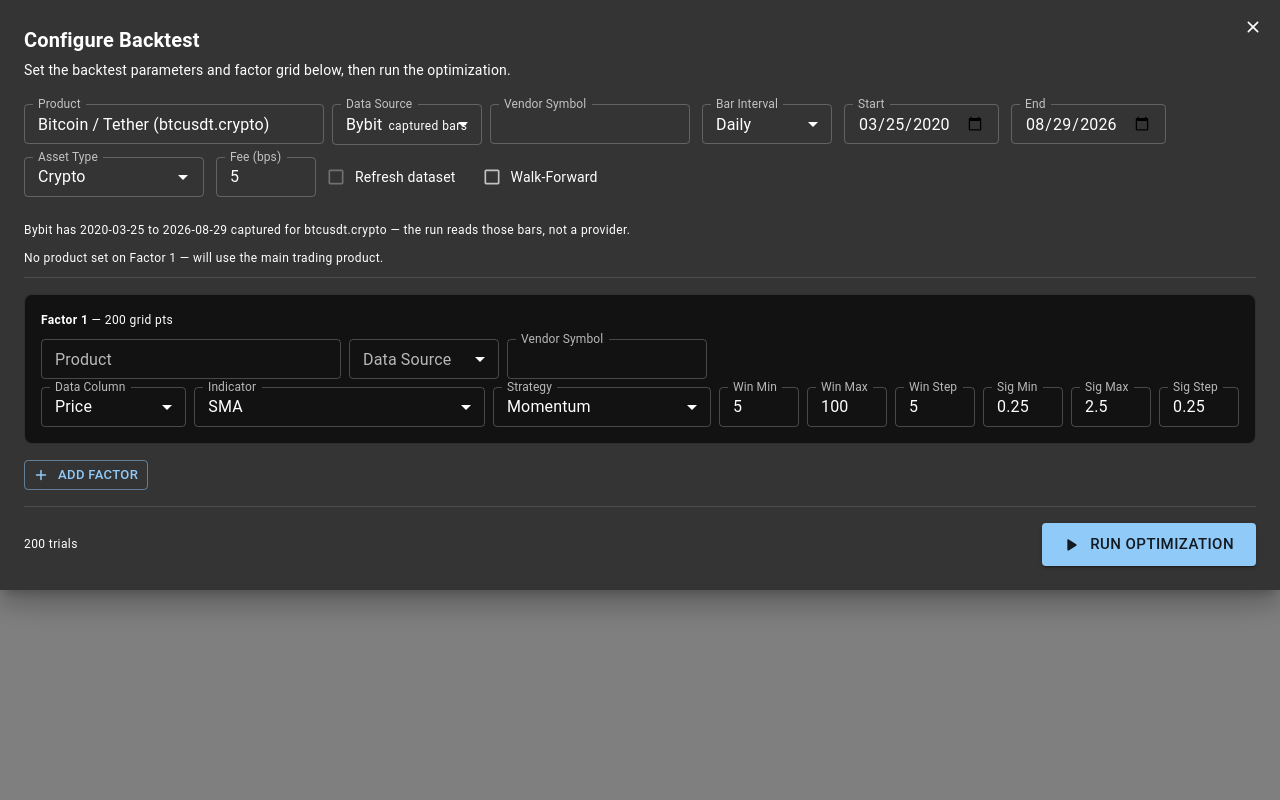
ConfigDrawer — a range outside the capture is flagged, not silently run › warns when a hand-typed start reaches behind the first bar
In the date field labelled "Start": (922, 124) x1=844 y1=104 x2=999 y2=144, type "2016-01-01"
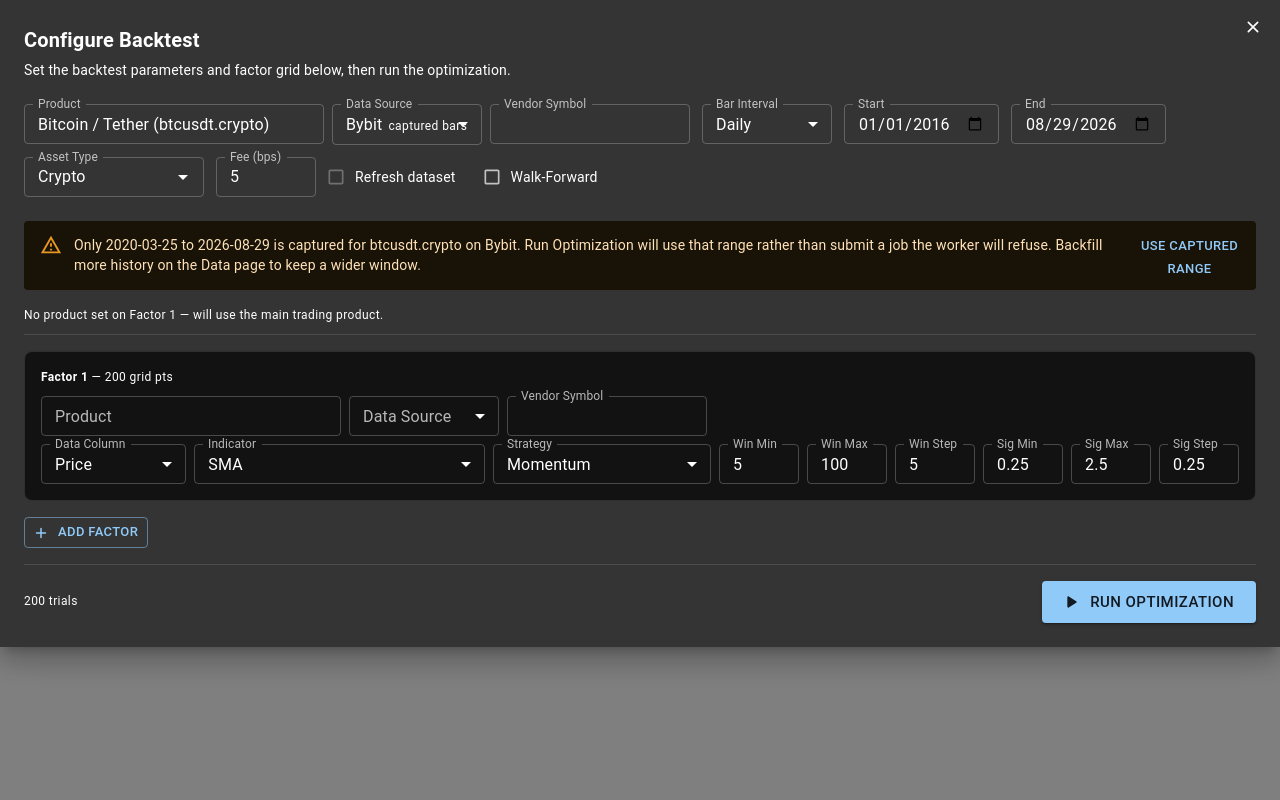
Now the text "worker will refuse" is shown, box x1=74 y1=237 x2=1102 y2=273
